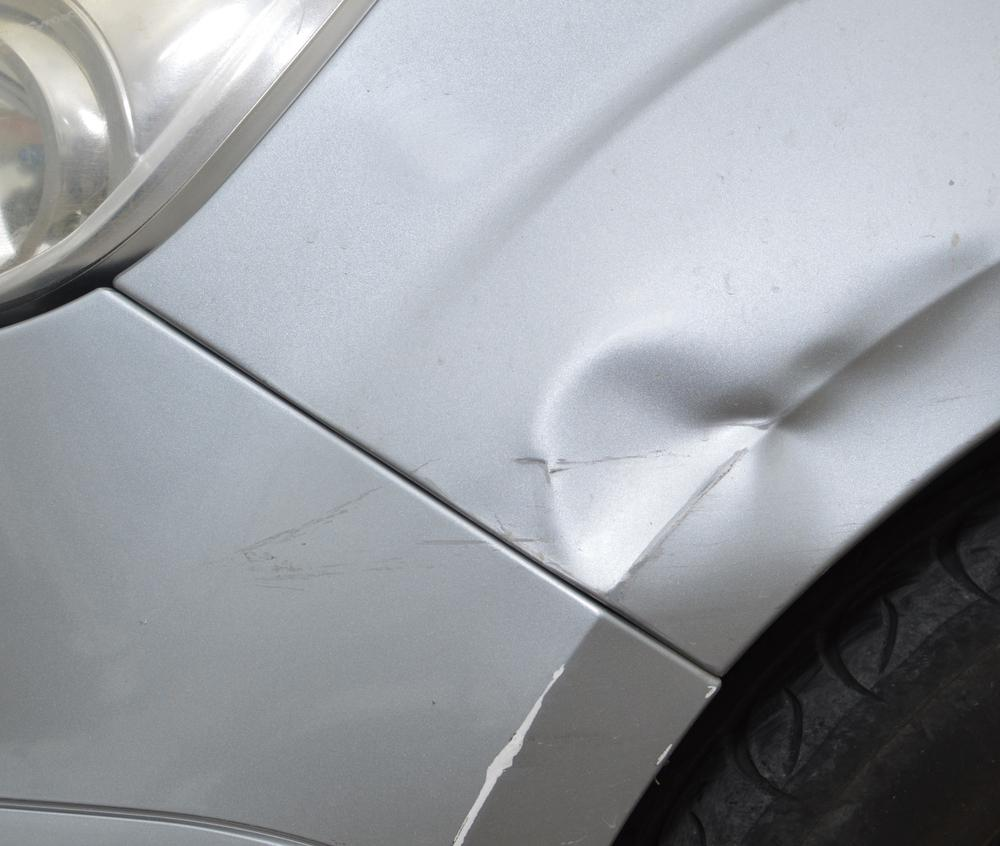dent: (545, 225, 1000, 589)
scratch: (448, 660, 574, 846)
